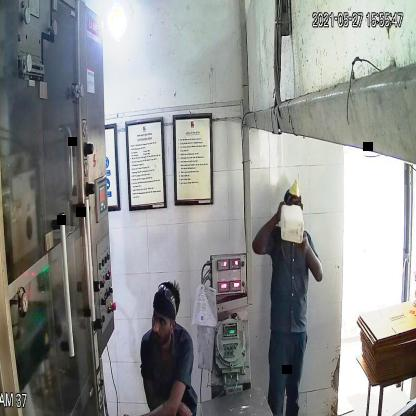no_goggles: (146, 306, 174, 330)
